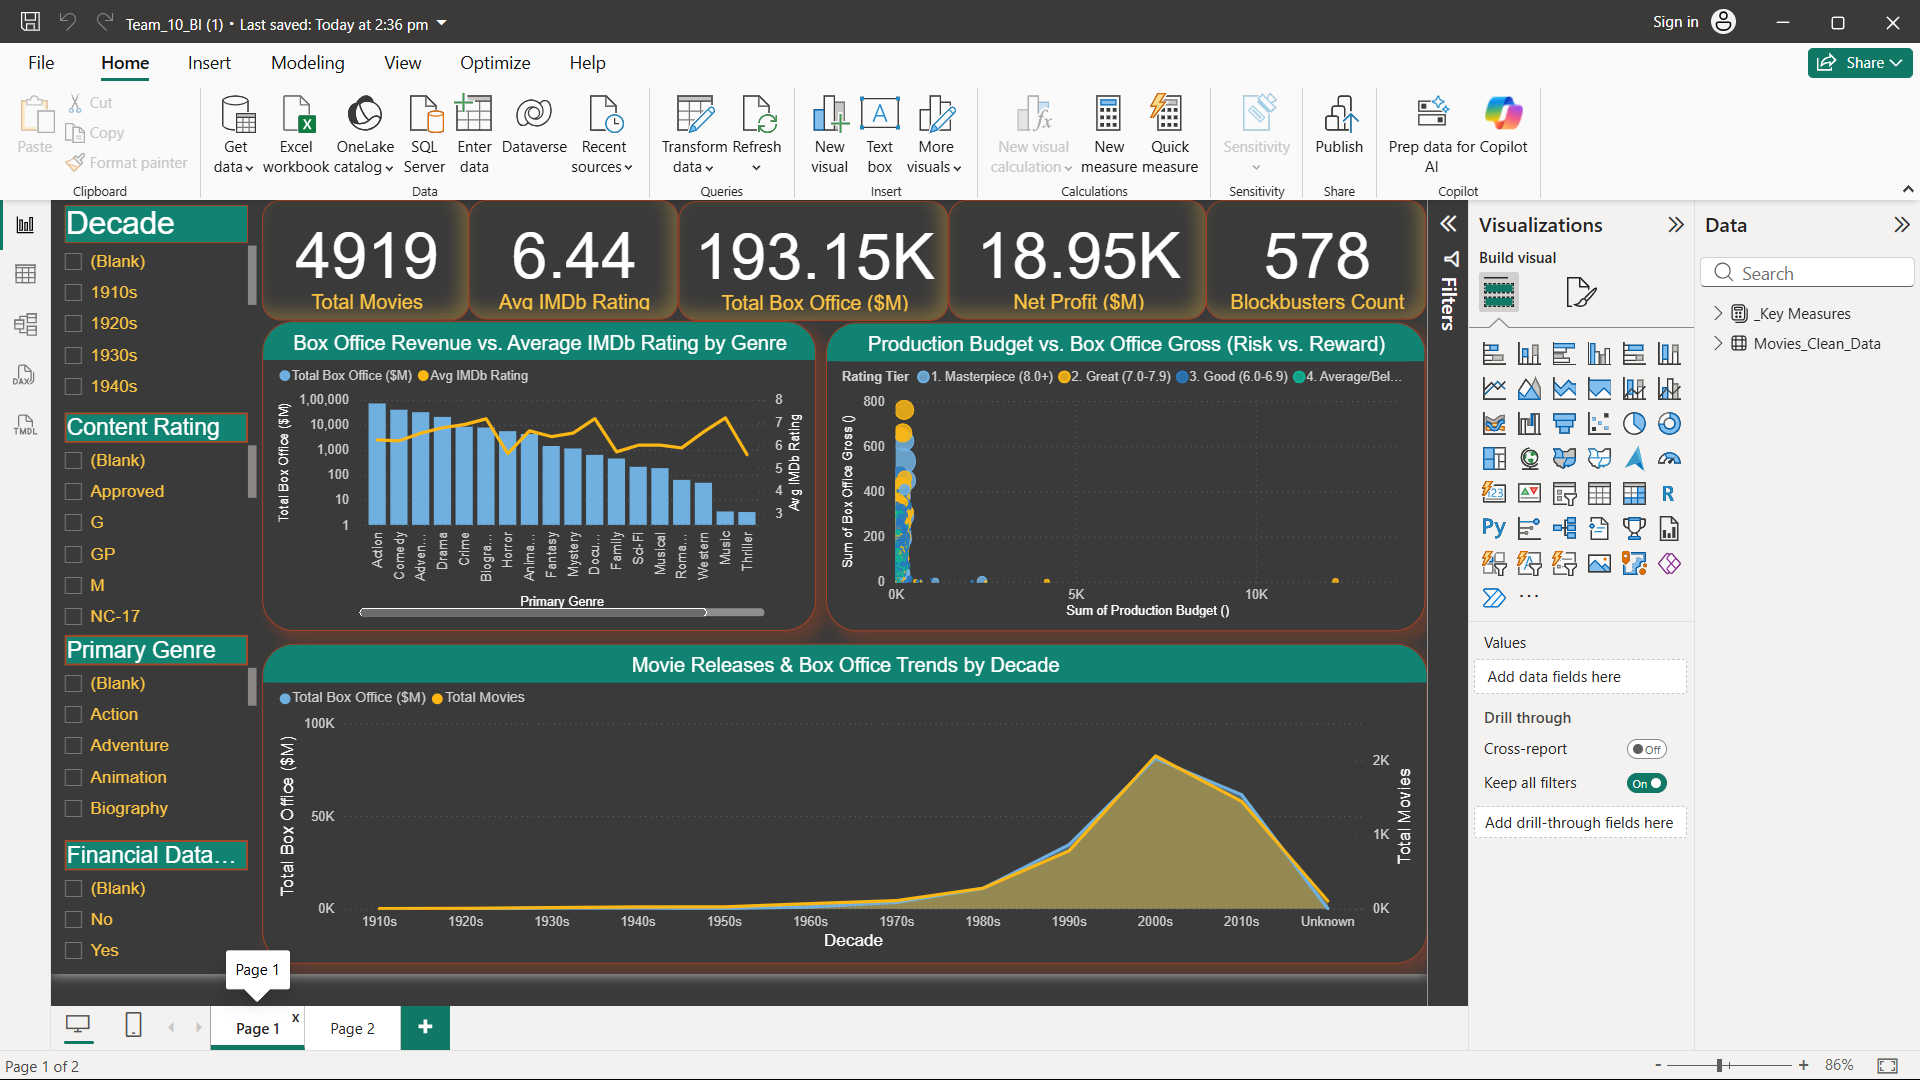

This screenshot's page, from the dashboard's own definition file:
{"tool":"powerbi","page":{"name":"Page 1","canvas":[1280,720],"ordinal":0},"visuals":[{"type":"slicer","fields":{"Values":["Movies_Clean_Data.Decade"]},"box":[0,0,196.2,191.2],"z":0},{"type":"slicer","fields":{"Values":["Movies_Clean_Data.Content Rating"]},"box":[0,192.5,196.2,208.8],"z":1000},{"type":"slicer","fields":{"Values":["Movies_Clean_Data.Primary Genre"]},"box":[0,400.6,196.3,189.6],"z":2000},{"type":"slicer","fields":{"Values":["Movies_Clean_Data.Financial Data Available"]},"box":[0,590.1,196.3,129.8],"z":3000},{"type":"card","fields":{"Values":["_Key Measures.Total Movies"]},"box":[196.3,0,192.9,111.7],"z":4000},{"type":"card","fields":{"Values":["_Key Measures.Avg IMDb Rating"]},"box":[388.8,0,195,111.2],"z":5000},{"type":"card","fields":{"Values":["_Key Measures.Total Box Office ($M)"]},"box":[583.8,1.2,251.2,111.2],"z":6000},{"type":"card","fields":{"Values":["_Key Measures.Net Profit ($M)"]},"box":[835,0,240,111.2],"z":7000},{"type":"card","fields":{"Values":["_Key Measures.Blockbusters Count"]},"box":[1075,0,205,111.2],"z":8000},{"type":"lineClusteredColumnComboChart","title":"Box Office Revenue vs. Average IMDb Rating by Genre","fields":{"Category":["Movies_Clean_Data.Primary Genre"],"Y":["_Key Measures.Total Box Office ($M)"],"Y2":["_Key Measures.Avg IMDb Rating"]},"box":[196.7,113.3,515.6,287.8],"z":9000},{"type":"scatterChart","title":"Production Budget vs. Box Office Gross (Risk vs. Reward)","fields":{"X":["Movies_Clean_Data.Production Budget ()"],"Y":["Movies_Clean_Data.Box Office Gross ()"],"Series":["Movies_Clean_Data.Rating Tier"],"Size":["Sum(Movies_Clean_Data.Votes)"],"Category":["Movies_Clean_Data.Movie ID"]},"box":[721.2,113.8,557.5,287.5],"z":10000},{"type":"areaChart","title":"Movie Releases & Box Office Trends by Decade","fields":{"Category":["Movies_Clean_Data.Decade"],"Y":["_Key Measures.Total Box Office ($M)"],"Y2":["_Key Measures.Total Movies"]},"box":[196.2,412.5,1083.8,297.5],"z":11000}]}

Visuals, with their boxes on the page's 1280x720 design canvas (x1, y1, x2, y2). These are canvas units, not pixel positions in the 1920x1080 screenshot, which may show the page scaled, cropped or inside an application window:
slicer - Movies_Clean_Data.Decade: <region>0, 0, 196, 191</region>
slicer - Movies_Clean_Data.Content Rating: <region>0, 192, 196, 401</region>
slicer - Movies_Clean_Data.Primary Genre: <region>0, 401, 196, 590</region>
slicer - Movies_Clean_Data.Financial Data Available: <region>0, 590, 196, 720</region>
card - _Key Measures.Total Movies: <region>196, 0, 389, 112</region>
card - _Key Measures.Avg IMDb Rating: <region>389, 0, 584, 111</region>
card - _Key Measures.Total Box Office ($M): <region>584, 1, 835, 112</region>
card - _Key Measures.Net Profit ($M): <region>835, 0, 1075, 111</region>
card - _Key Measures.Blockbusters Count: <region>1075, 0, 1280, 111</region>
"Box Office Revenue vs. Average IMDb Rating by Genre" lineClusteredColumnComboChart: <region>197, 113, 712, 401</region>
"Production Budget vs. Box Office Gross (Risk vs. Reward)" scatterChart: <region>721, 114, 1279, 401</region>
"Movie Releases & Box Office Trends by Decade" areaChart: <region>196, 412, 1280, 710</region>
